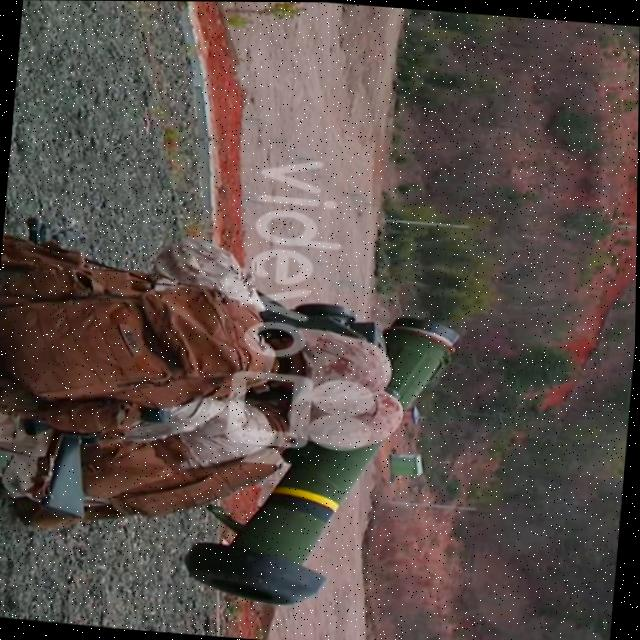rocket: (183, 304, 461, 616)
